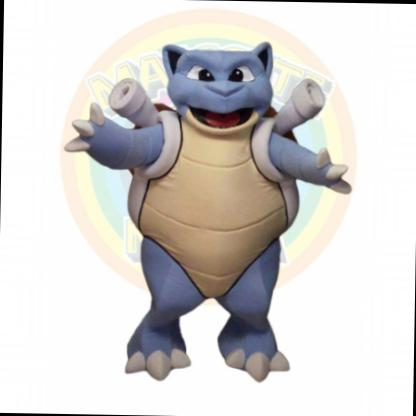Blastoise: (1, 1, 395, 416)
